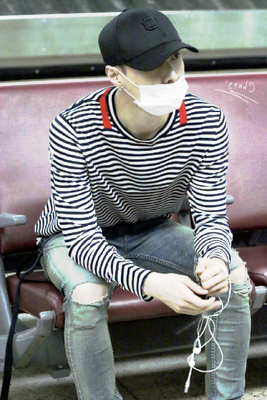mask_weared_incorrect: (126, 52, 185, 115)
